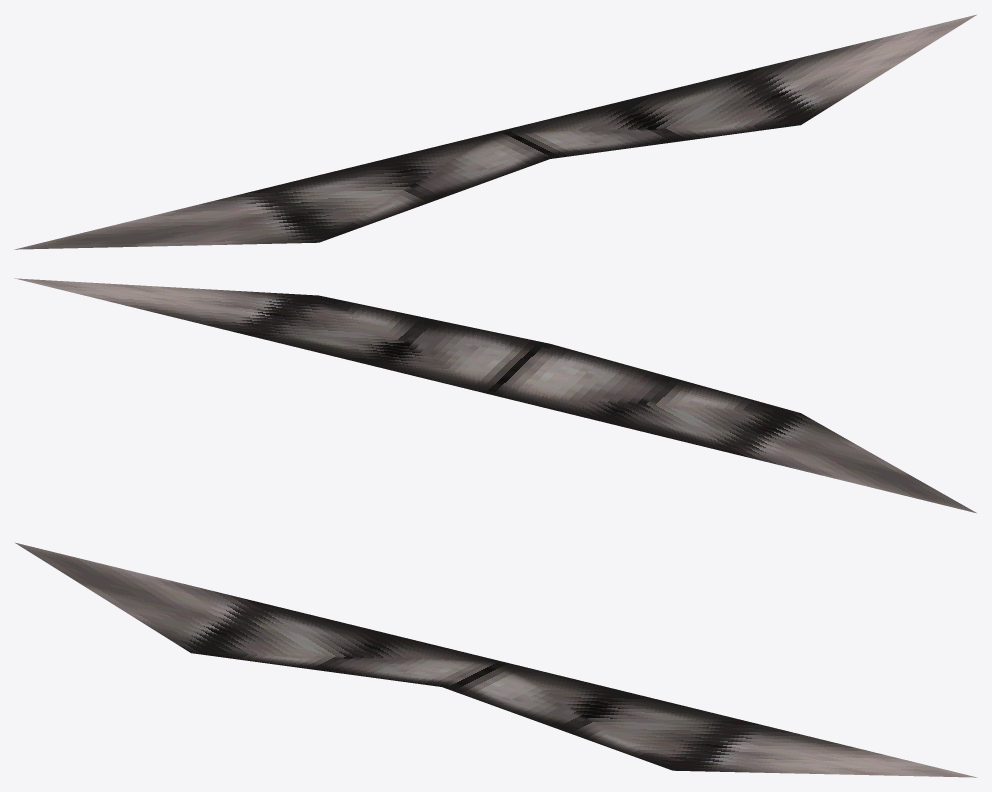
Rendered from Randstein_Flach_Gedreht_1897.glb.
The picture shows the model from 3 angles, top to bottom: view 1: azimuth 30°, elevation 25°; view 2: azimuth 150°, elevation 25°; view 3: azimuth 330°, elevation 25°; orthographic projection.
Visible parts, largest first — view 1: pPlaneShape172; view 2: pPlaneShape172; view 3: pPlaneShape172.
Boxes of the visible parts, <box> form: pPlaneShape172: <box>14,14,976,249</box>; pPlaneShape172: <box>14,278,976,513</box>; pPlaneShape172: <box>15,542,977,777</box>.
Size of the model in its own units: 1 by 0.0176 by 0.1149.
Materials: 1 (1 with a texture image).
